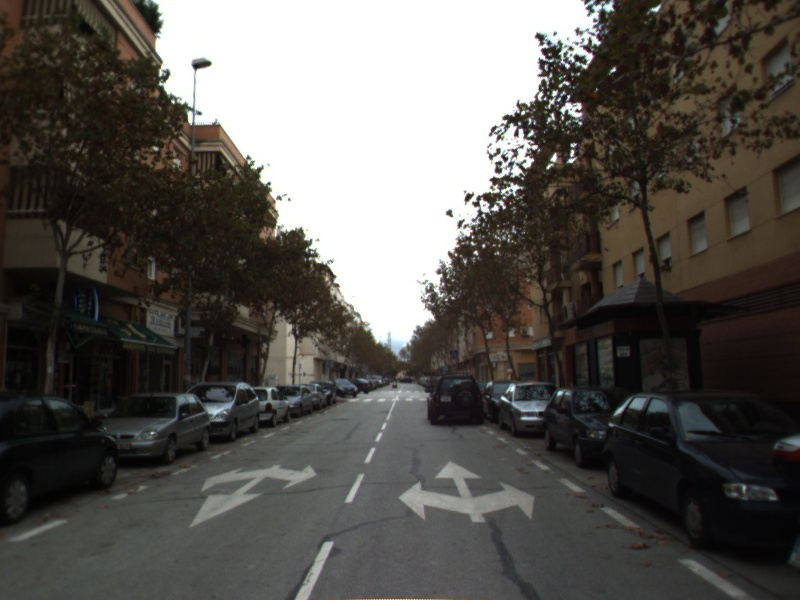STRAIGHT_LEFT_RIGHT: (396, 458, 537, 525)
